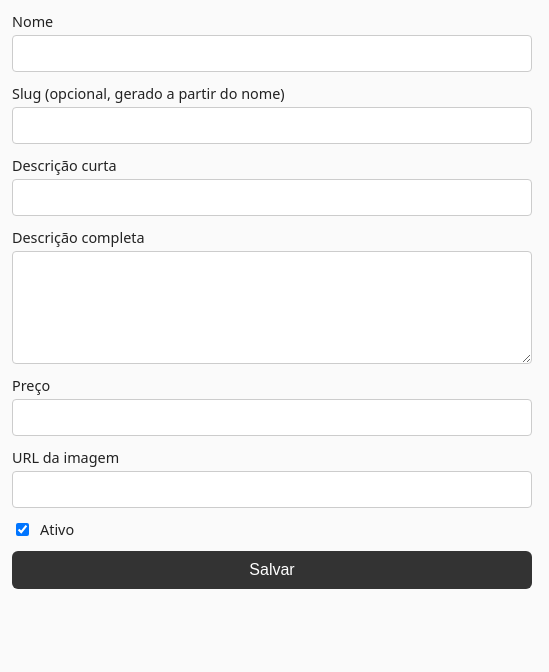
Test: formulário exibe erro retornado pelo envio
The width and height of the screenshot is (549, 672).
What coordinates should you click on to do the following:
click the button with test id "product-save"
I would click on:
 (272, 570)
Its box is [12, 551, 532, 589].
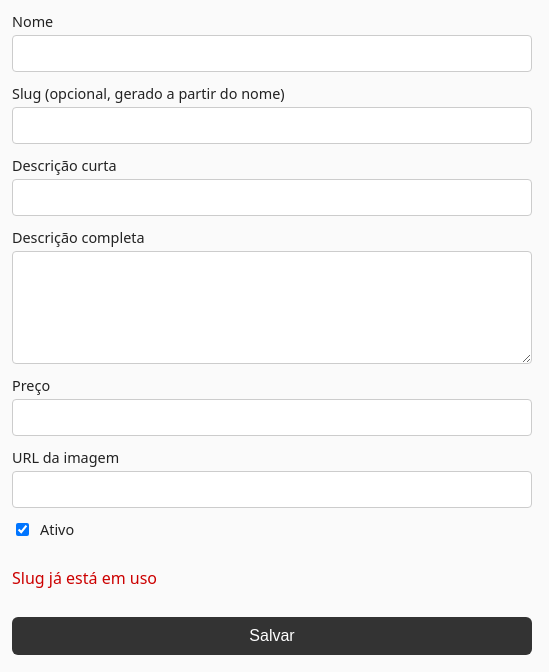
Now the message reads "Slug já está em uso", box [12, 567, 157, 589]
